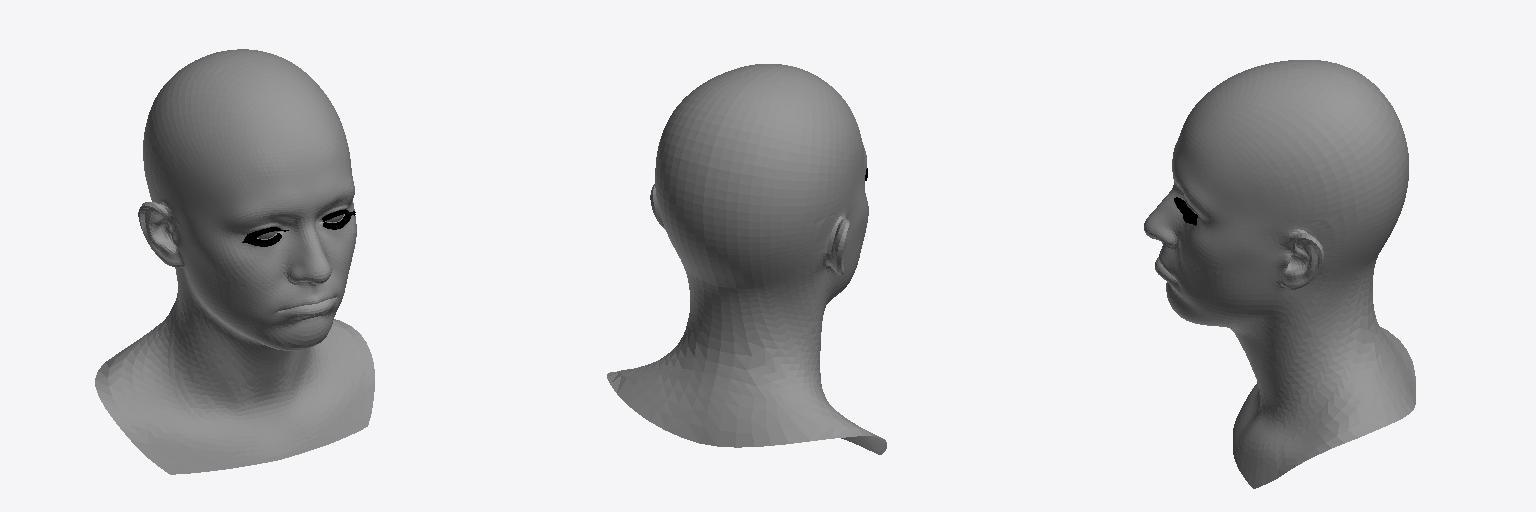
File: mouthShrugLower.obj
3 renders of one model, left to right at view 1: azimuth 30°, elevation 25°; view 2: azimuth 150°, elevation 25°; view 3: azimuth 270°, elevation 25°, orthographic.
Size of the model in its own units: 24.83 by 33.81 by 22.32.